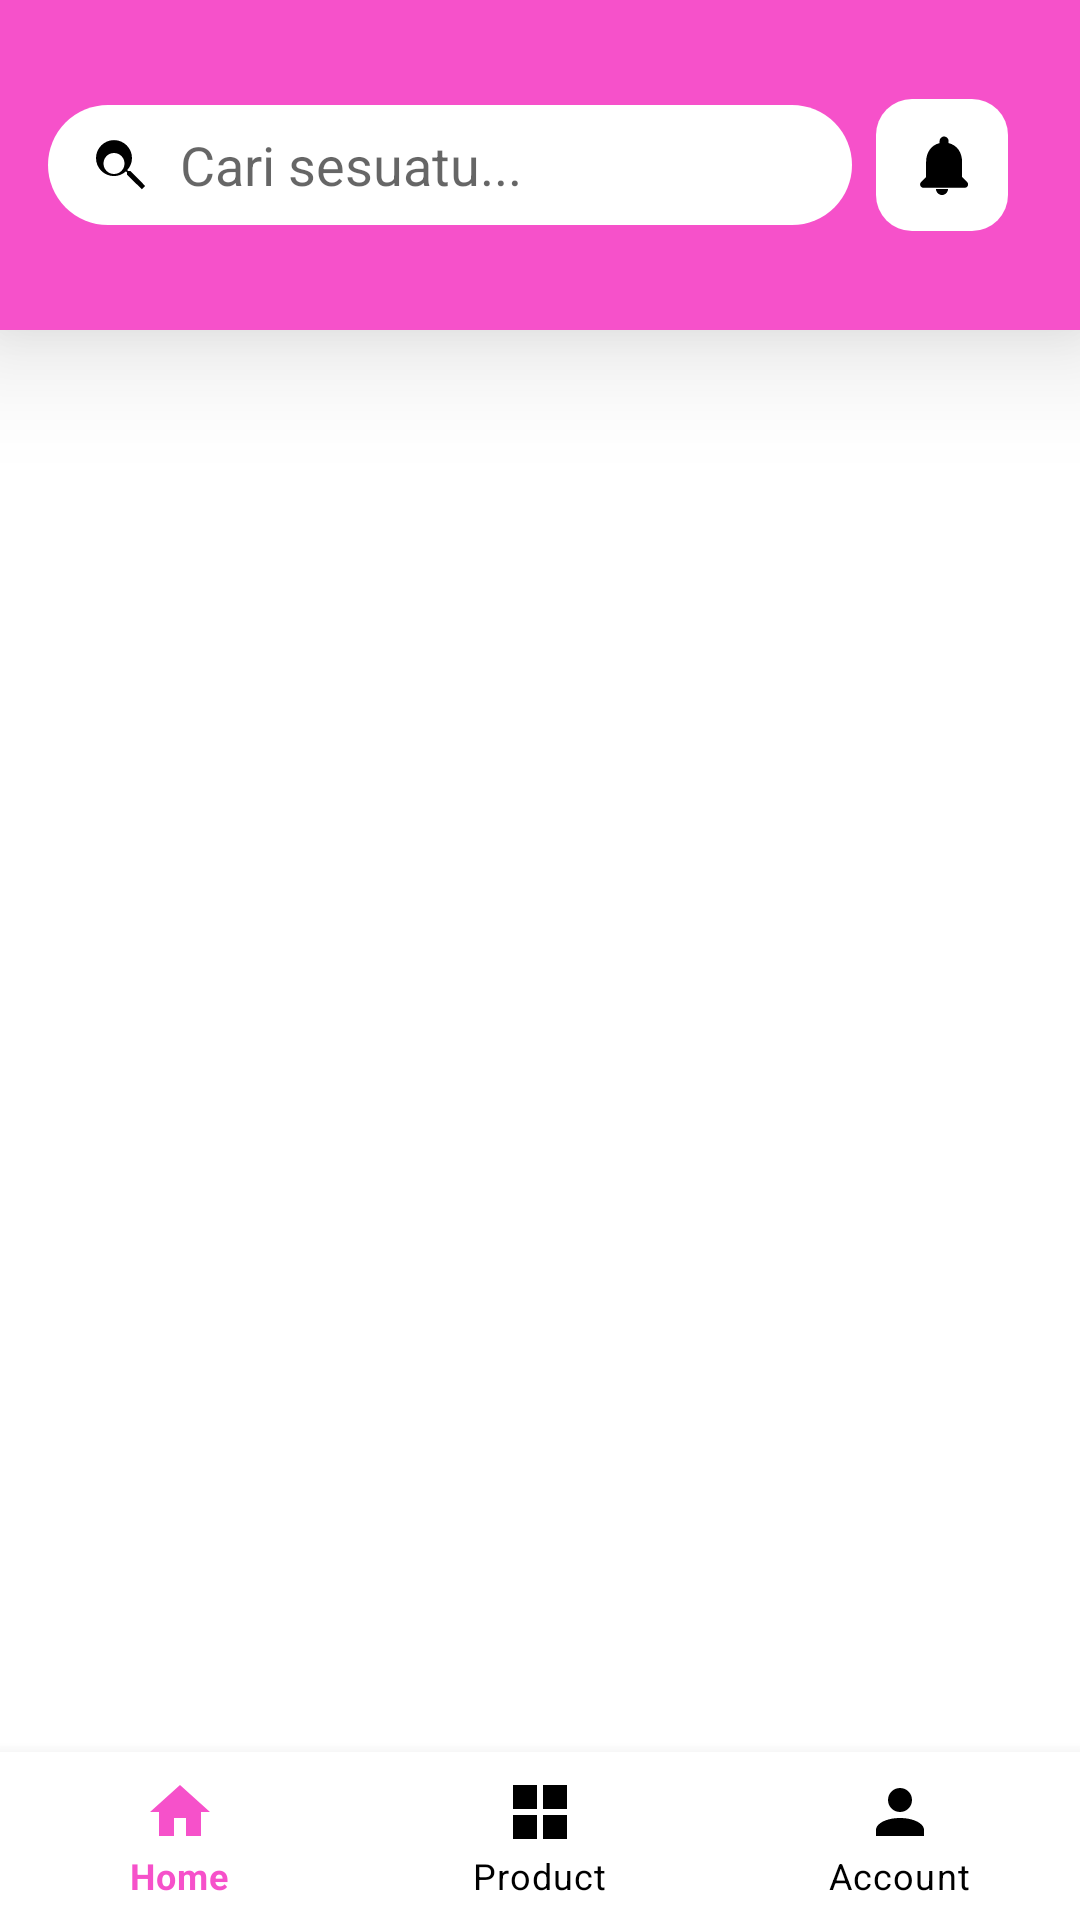

Screen size 1080*1920. Icon name, then its center in pixels as point (x, y):
Notifikasi: point (942, 165)
